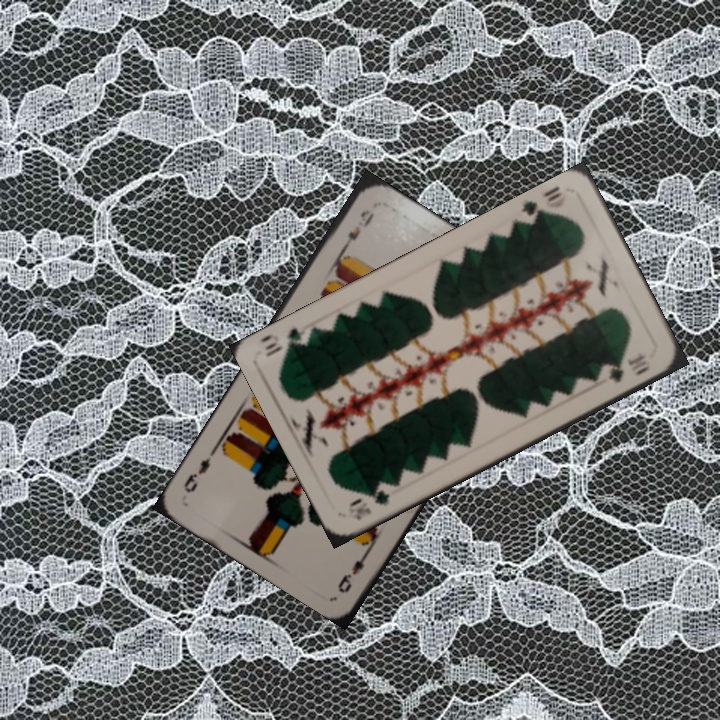E9: (333, 543, 374, 596), (337, 205, 377, 255)
G10: (516, 182, 565, 228), (346, 486, 392, 523)
